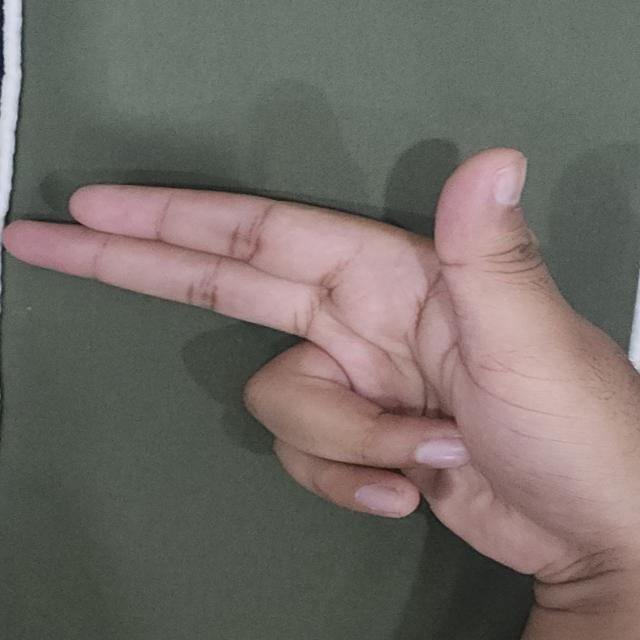ج: (4, 126, 640, 620)
